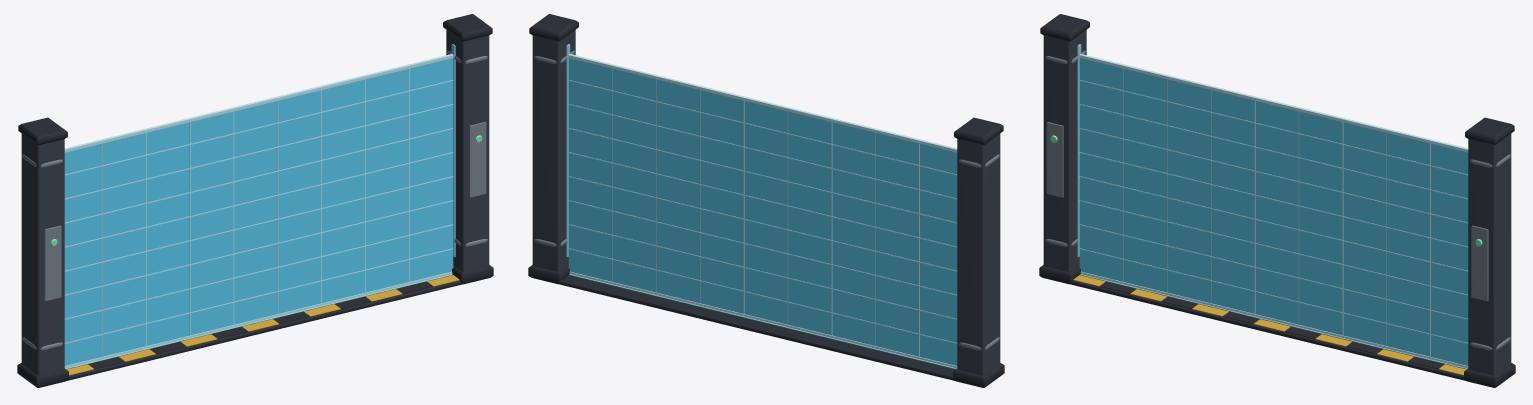
File: portail_holographique.glb
3 renders of one model, left to right at view 1: azimuth 30°, elevation 25°; view 2: azimuth 150°, elevation 25°; view 3: azimuth 330°, elevation 25°, orthographic.
Parts seen in each view (by area): view 1: holo_portail_holo_cyan.002, pieces_emetteur.004, holo_portail_holo_clair.002, pieces_emetteur_bord.004, pieces_emetteur_clair.004, pieces_jaune_cl.002, pieces_noir_cl.004, pieces_lentille.002; view 2: holo_portail_holo_cyan.002, pieces_emetteur.004, holo_portail_holo_clair.002, pieces_emetteur_bord.004, pieces_lentille.002, pieces_emetteur_clair.004; view 3: holo_portail_holo_cyan.002, pieces_emetteur.004, holo_portail_holo_clair.002, pieces_emetteur_bord.004, pieces_emetteur_clair.004, pieces_jaune_cl.002, pieces_noir_cl.004, pieces_lentille.002.
Part boxes in pixels (x1,y1,x2,y2): holo_portail_holo_cyan.002: [64, 58, 453, 365]; pieces_emetteur.004: [21, 30, 489, 375]; holo_portail_holo_clair.002: [64, 54, 453, 368]; pieces_emetteur_bord.004: [17, 14, 493, 387]; pieces_emetteur_clair.004: [22, 50, 487, 350]; pieces_jaune_cl.002: [66, 275, 459, 375]; pieces_noir_cl.004: [88, 281, 433, 369]; pieces_lentille.002: [65, 44, 455, 369]; holo_portail_holo_cyan.002: [568, 58, 957, 365]; pieces_emetteur.004: [532, 30, 1000, 375]; holo_portail_holo_clair.002: [568, 54, 957, 368]; pieces_emetteur_bord.004: [528, 14, 1004, 387]; pieces_lentille.002: [566, 44, 956, 369]; pieces_emetteur_clair.004: [534, 50, 999, 350]; holo_portail_holo_cyan.002: [1079, 58, 1468, 365]; pieces_emetteur.004: [1043, 30, 1511, 375]; holo_portail_holo_clair.002: [1079, 54, 1468, 368]; pieces_emetteur_bord.004: [1039, 14, 1515, 387]; pieces_emetteur_clair.004: [1045, 50, 1510, 350]; pieces_jaune_cl.002: [1073, 275, 1466, 375]; pieces_noir_cl.004: [1099, 281, 1444, 369]; pieces_lentille.002: [1077, 44, 1467, 369].
Size of the model in its own units: 3.35 by 1.75 by 0.3.
